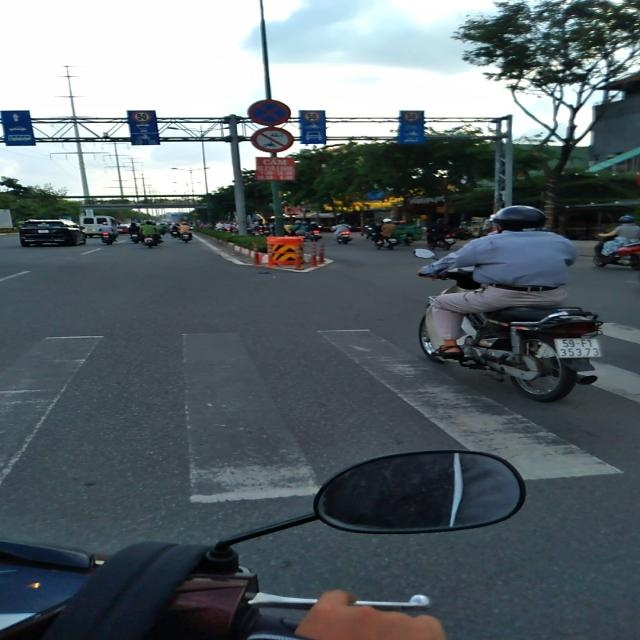bien_cam: (247, 99, 291, 126), (302, 110, 322, 122), (132, 111, 152, 123), (402, 111, 421, 122)
